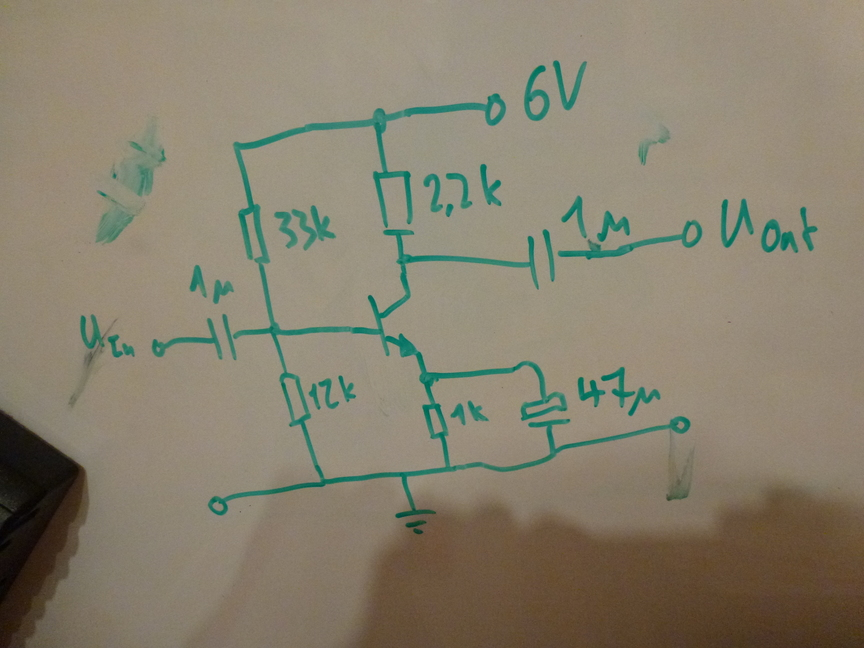capacitor.polarized: (515, 389, 575, 432)
capacitor.unpolarized: (519, 226, 570, 292), (197, 310, 253, 364)
gnd: (392, 503, 441, 540)
junction: (366, 104, 397, 139), (414, 368, 440, 391), (543, 442, 566, 463), (263, 319, 286, 340), (522, 357, 547, 375), (392, 250, 413, 268), (229, 138, 248, 156), (312, 474, 332, 491), (438, 460, 456, 477), (396, 467, 412, 483)
resistor: (368, 165, 418, 242), (234, 199, 275, 269), (271, 365, 312, 429), (419, 399, 450, 442)
terminal: (474, 90, 512, 129), (674, 215, 708, 254), (199, 491, 231, 521), (665, 412, 694, 440), (145, 333, 172, 361)
text: (717, 195, 821, 257), (418, 159, 508, 219), (519, 57, 591, 124), (574, 365, 662, 419), (271, 204, 343, 253), (558, 194, 633, 241), (76, 312, 137, 360), (186, 263, 238, 307), (307, 374, 359, 411), (446, 398, 496, 428)
transistor: (362, 286, 440, 362)
